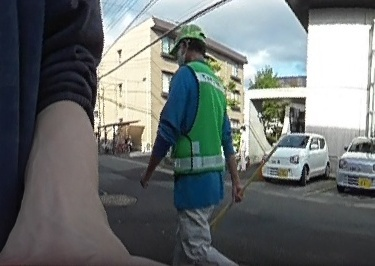person: (139, 21, 243, 264)
